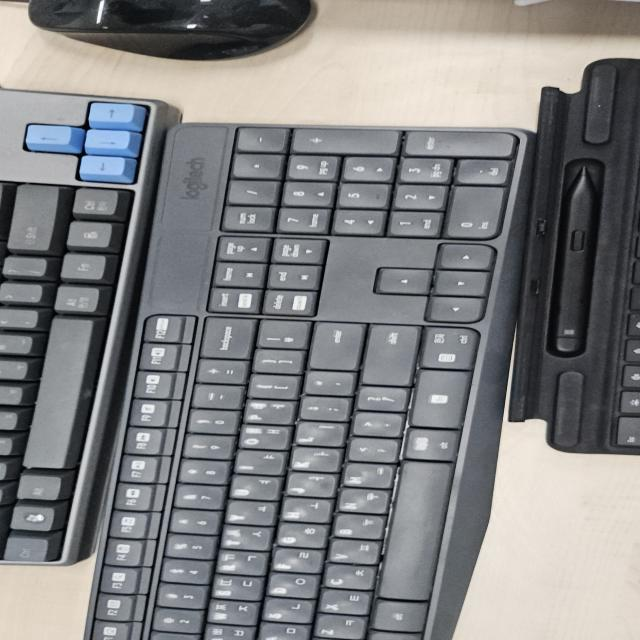Keyboard: (124, 121, 484, 640)
Mouse: (25, 0, 318, 62)
